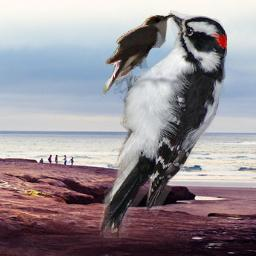Cuckoo: (103, 13, 175, 99)
Woodpecker: (97, 10, 227, 238)
